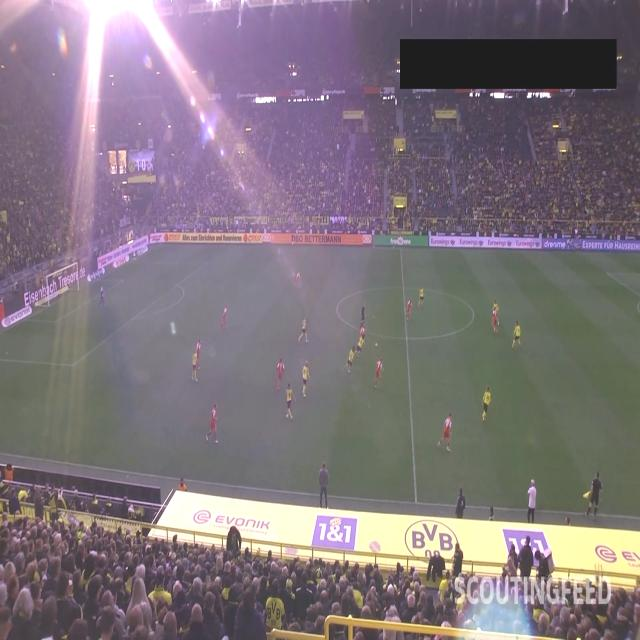f_player: (317, 463, 329, 508), (526, 481, 536, 526), (482, 386, 494, 422), (511, 321, 523, 349), (490, 300, 500, 332)
